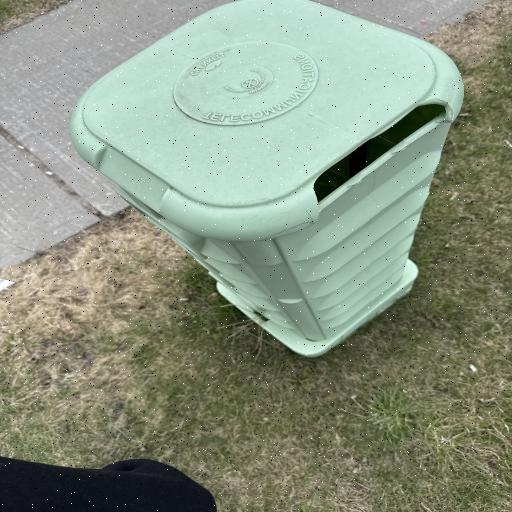Electrical Box: (70, 4, 462, 358)
